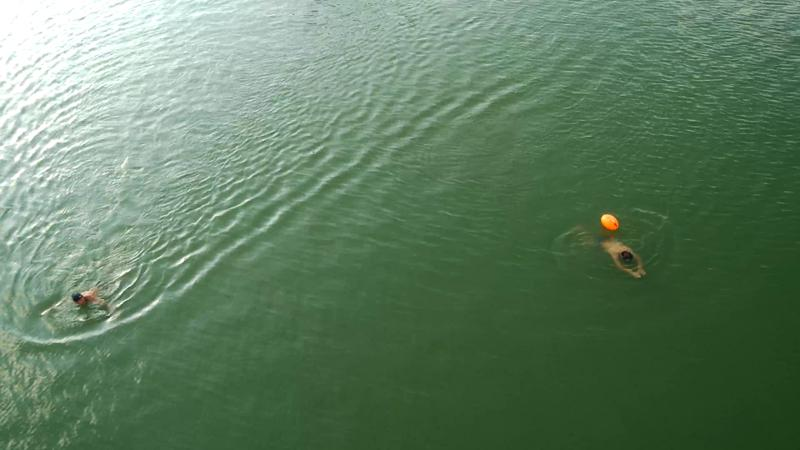swimmers: (594, 233, 647, 281), (69, 288, 105, 307)
